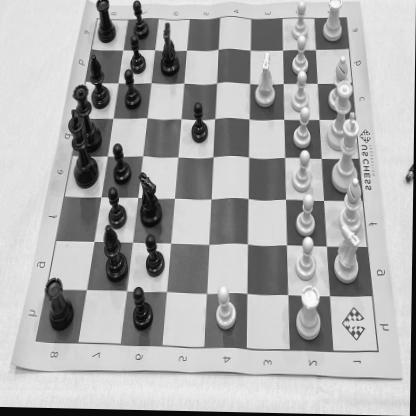black-bishop: (104, 230, 130, 283), (90, 55, 111, 111)
black-king: (66, 110, 100, 190)
black-knight: (138, 171, 166, 230), (160, 22, 182, 78)
black-pawn: (145, 233, 167, 280), (134, 288, 156, 331), (107, 187, 128, 231), (191, 102, 210, 146), (113, 144, 132, 184), (132, 0, 150, 41), (124, 71, 141, 111), (130, 36, 147, 74)
black-queen: (71, 84, 102, 154)
black-rook: (44, 275, 76, 334), (94, 0, 118, 45)
white-bishop: (339, 176, 363, 235), (328, 55, 350, 111)
white-king: (332, 110, 361, 193)
white-knight: (332, 220, 362, 286), (252, 49, 278, 113)
white-pawn: (295, 194, 320, 240), (296, 237, 320, 282), (290, 108, 315, 150), (215, 287, 238, 332), (292, 150, 315, 192), (291, 72, 313, 112), (290, 37, 312, 75), (292, 1, 308, 42)
white-queen: (328, 80, 354, 150)
white-rook: (297, 284, 324, 340), (322, 0, 344, 43)
